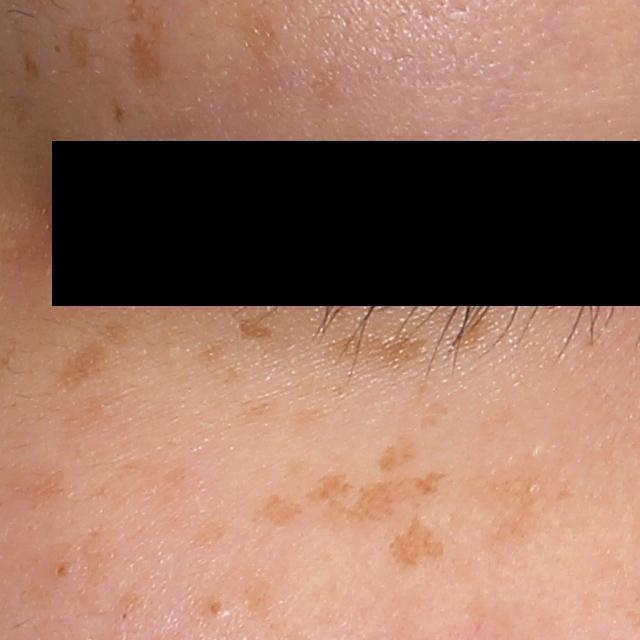comedo: (204, 595, 224, 620)
melasma: (468, 462, 579, 557), (303, 470, 444, 532), (56, 320, 129, 395), (318, 333, 435, 370), (387, 514, 445, 574), (235, 2, 277, 65), (241, 564, 277, 623), (250, 493, 305, 531), (127, 32, 162, 88), (183, 518, 229, 557), (375, 432, 418, 473), (67, 24, 100, 75), (450, 316, 491, 353), (194, 342, 231, 369), (238, 317, 276, 342), (242, 397, 272, 420), (23, 46, 41, 80), (108, 95, 126, 126)
